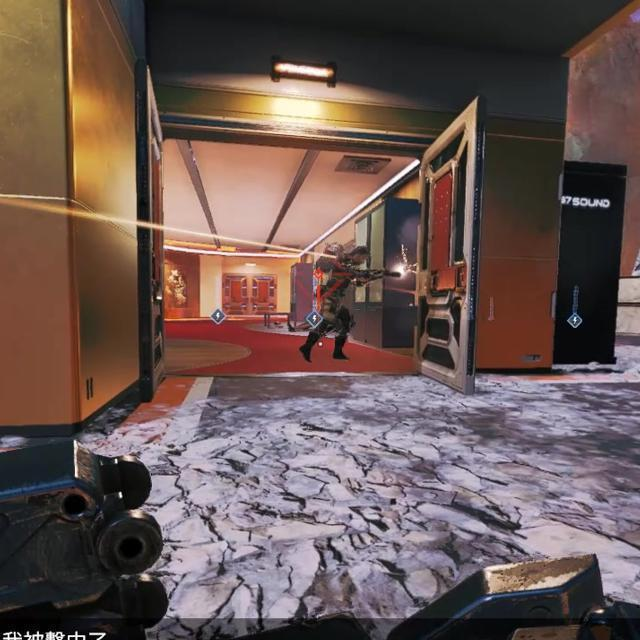avatar: (297, 242, 370, 364)
